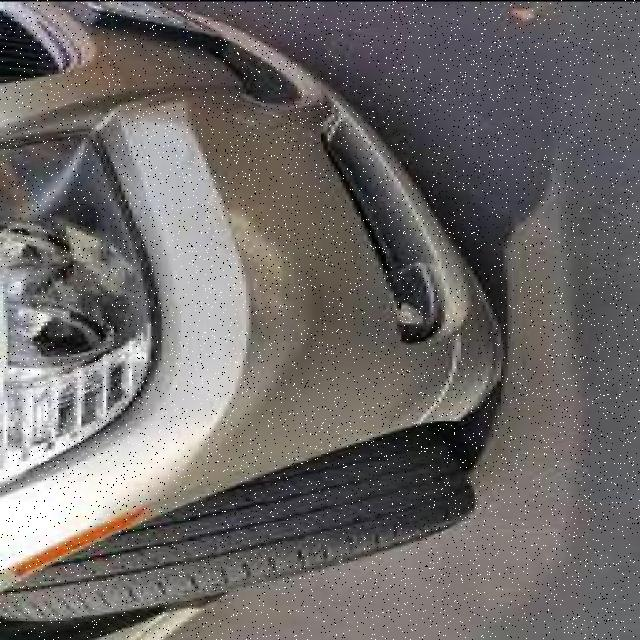damage: (207, 210, 325, 403)
